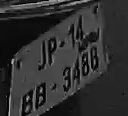1: (67, 23, 77, 47)
3: (62, 65, 73, 93)
4: (73, 15, 87, 41), (73, 55, 83, 86)
8: (88, 43, 101, 72), (78, 51, 90, 75)
B: (34, 81, 49, 109), (19, 91, 33, 116)
P: (46, 37, 59, 66)
U: (34, 40, 46, 72)
